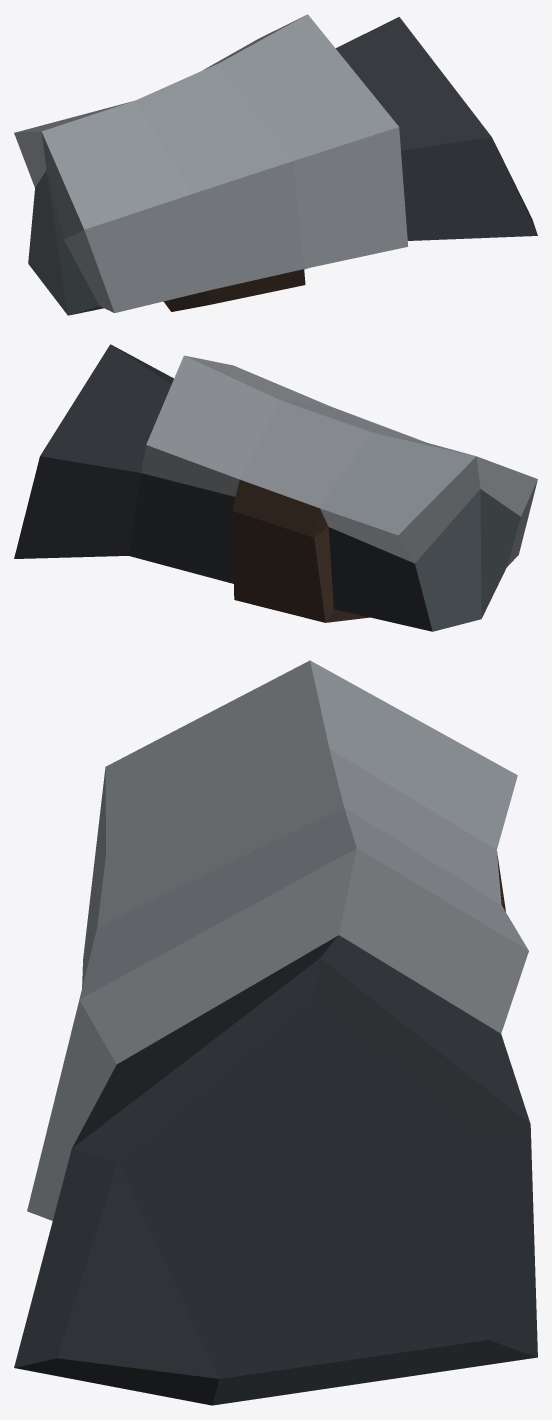
Rendered from Chr_ArmUpperRight_Male_08_Static.fbx.
3 renders of one model, top to bottom at view 1: azimuth 30°, elevation 25°; view 2: azimuth 150°, elevation 25°; view 3: azimuth 270°, elevation 25°, orthographic. The views are drawn at different scales.
Visible parts, largest first — view 1: Chr_ArmUpperRight_Male_08_Static; view 2: Chr_ArmUpperRight_Male_08_Static; view 3: Chr_ArmUpperRight_Male_08_Static.
Part boxes in pixels (x1=…): Chr_ArmUpperRight_Male_08_Static: x1=14, y1=14, x2=537, y2=315; Chr_ArmUpperRight_Male_08_Static: x1=14, y1=344, x2=537, y2=631; Chr_ArmUpperRight_Male_08_Static: x1=14, y1=660, x2=537, y2=1405.
Bounding box in the file's own units: 0.3307 × 0.1731 × 0.1736.
